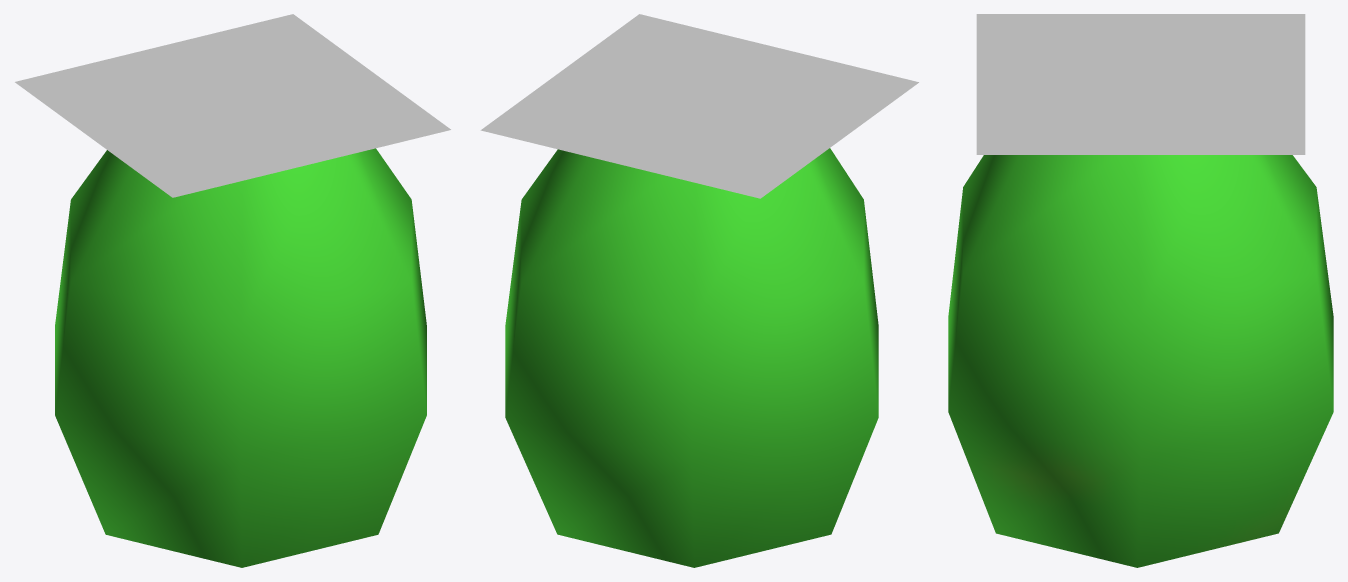
File: Cactus_01.fbx
3 renders of one model, left to right at view 1: azimuth 30°, elevation 25°; view 2: azimuth 150°, elevation 25°; view 3: azimuth 270°, elevation 25°, orthographic. The views are drawn at different scales.
Parts seen in each view (by area): view 1: Cactus_01, flower_01; view 2: Cactus_01, flower_01; view 3: Cactus_01, flower_01.
Part boxes in pixels (x1,y1,x2,y2): Cactus_01: (55,148,426,567); flower_01: (15,14,450,197); Cactus_01: (505,148,878,567); flower_01: (480,14,918,198); Cactus_01: (948,155,1333,567); flower_01: (976,14,1305,154).
Size of the model in its own units: 33.37 by 33.97 by 28.9.
